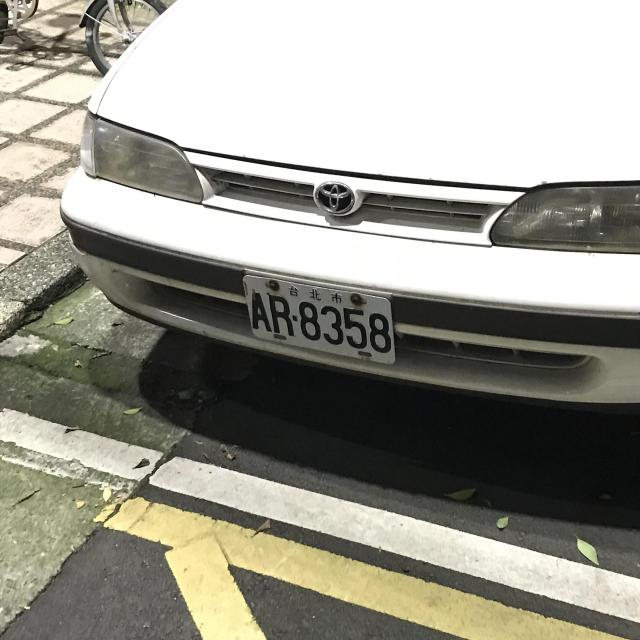W: (232, 262, 406, 380)
